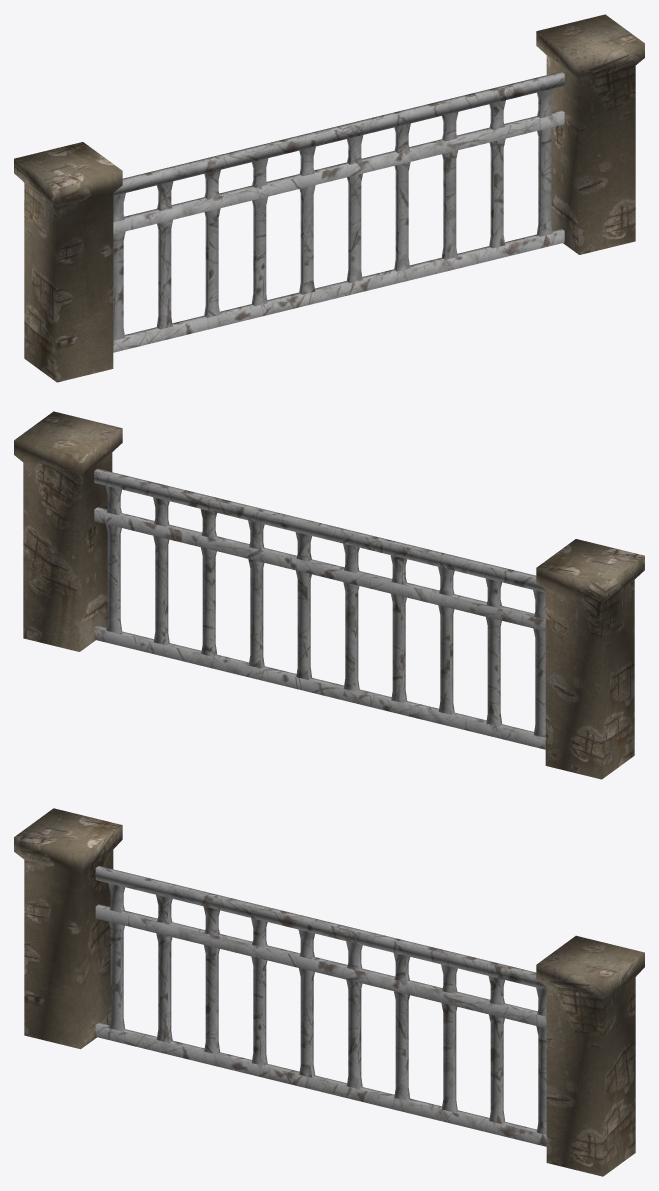
Rendered from Zaun1Segment.fbx.
The picture shows the model from 3 angles, top to bottom: view 1: azimuth 30°, elevation 25°; view 2: azimuth 150°, elevation 25°; view 3: azimuth 330°, elevation 25°; orthographic projection.
Visible parts, largest first — view 1: Zaun1Segment; view 2: Zaun1Segment; view 3: Zaun1Segment.
Part boxes in pixels (bbox=[...]): Zaun1Segment: bbox=[14, 14, 644, 382]; Zaun1Segment: bbox=[14, 411, 644, 779]; Zaun1Segment: bbox=[14, 808, 644, 1176].
Bounding box in the file's own units: 578 × 186 × 67.08.
